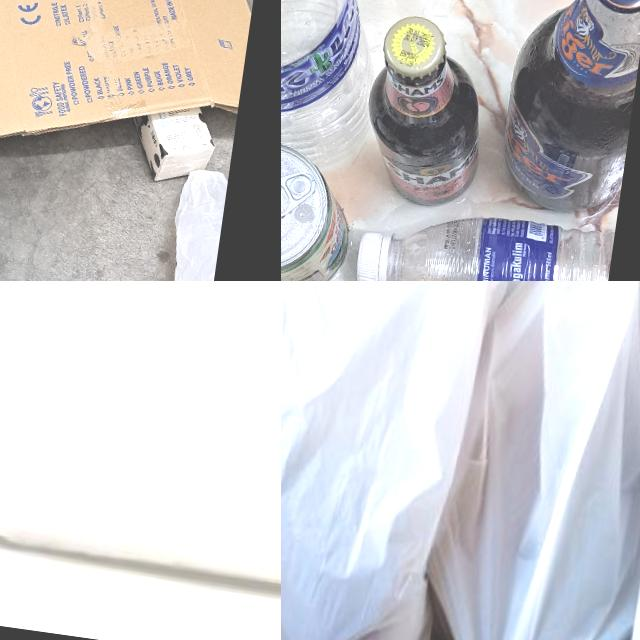aba de lata: (281, 165, 318, 227)
caixinha: (134, 100, 219, 190)
garrafa de vidro: (492, 0, 640, 217), (360, 12, 498, 212)
garrafa plástica: (350, 196, 614, 281), (281, 0, 401, 177)
lata: (281, 131, 359, 281)
papelão: (0, 0, 281, 187)
sacola plástica: (0, 281, 281, 626), (281, 281, 533, 640), (438, 281, 640, 640), (159, 168, 229, 281)
tampa plástica: (353, 227, 398, 281)
